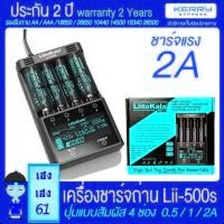battery: (21, 62, 51, 114), (65, 51, 97, 99), (51, 56, 81, 106), (37, 60, 65, 107)
